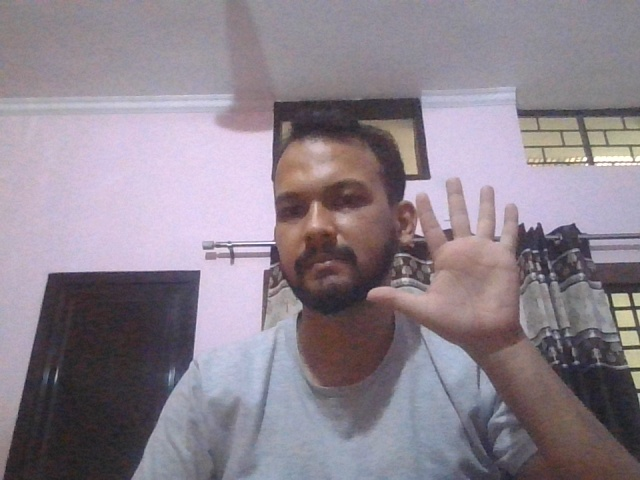hello: (365, 177, 523, 347)
